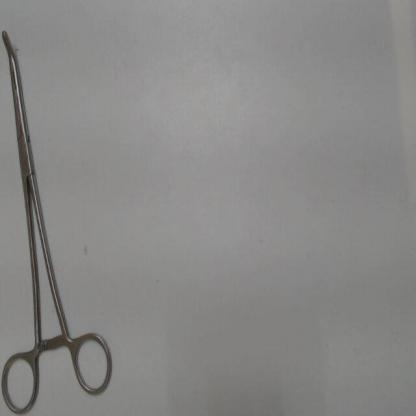Lahey Forceps: (1, 22, 118, 415)
